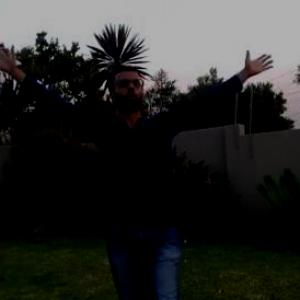takeoff: (1, 36, 300, 299)
